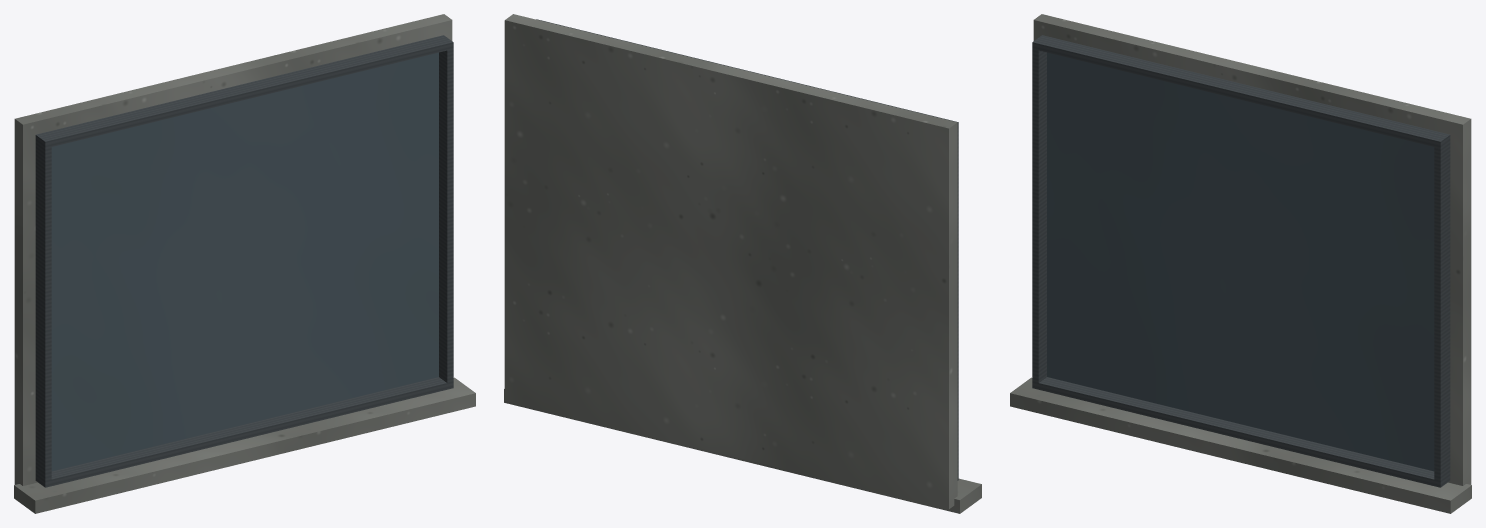
The model's file is window-industrial-steel.lod1.gltf.
The picture shows the model from 3 angles, left to right: view 1: azimuth 30°, elevation 25°; view 2: azimuth 150°, elevation 25°; view 3: azimuth 330°, elevation 25°; orthographic projection. The views are drawn at different scales.
Visible parts, largest first — view 1: window-industrial-steel; view 2: window-industrial-steel; view 3: window-industrial-steel.
Part boxes in pixels (x1,y1,x2,y2): window-industrial-steel: (14, 14, 475, 513); window-industrial-steel: (504, 14, 981, 513); window-industrial-steel: (1010, 14, 1471, 513).
Bounding box in the file's own units: 3.12 × 2.54 × 0.32.
Materials: 3 (3 with a texture image).
